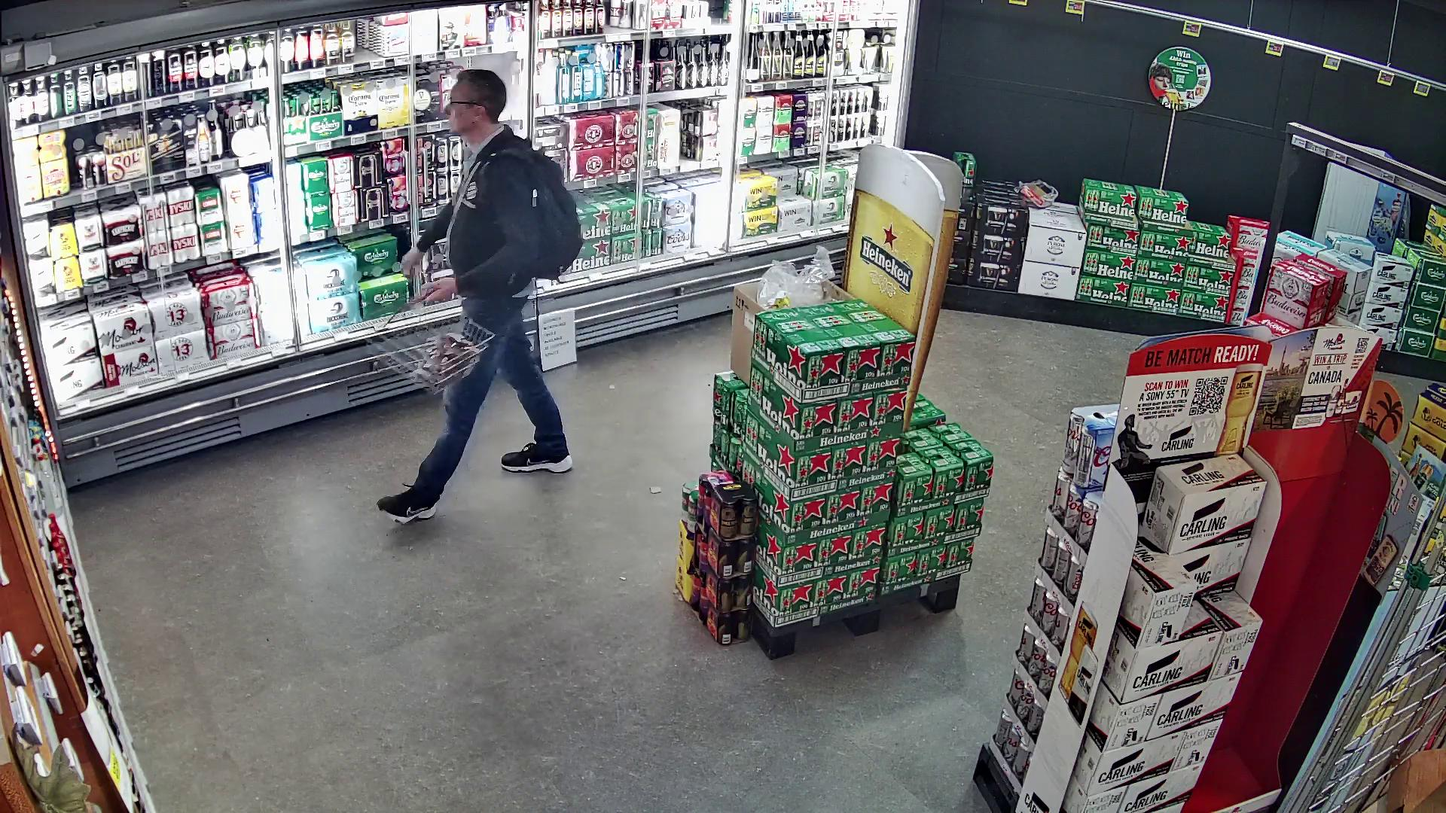backpack-or-handbag: (524, 147, 582, 280)
filled-basket: (365, 288, 494, 395)
person: (379, 69, 574, 524)
person-with-basket-trolly-and-backpack-handbag: (365, 68, 583, 522)
